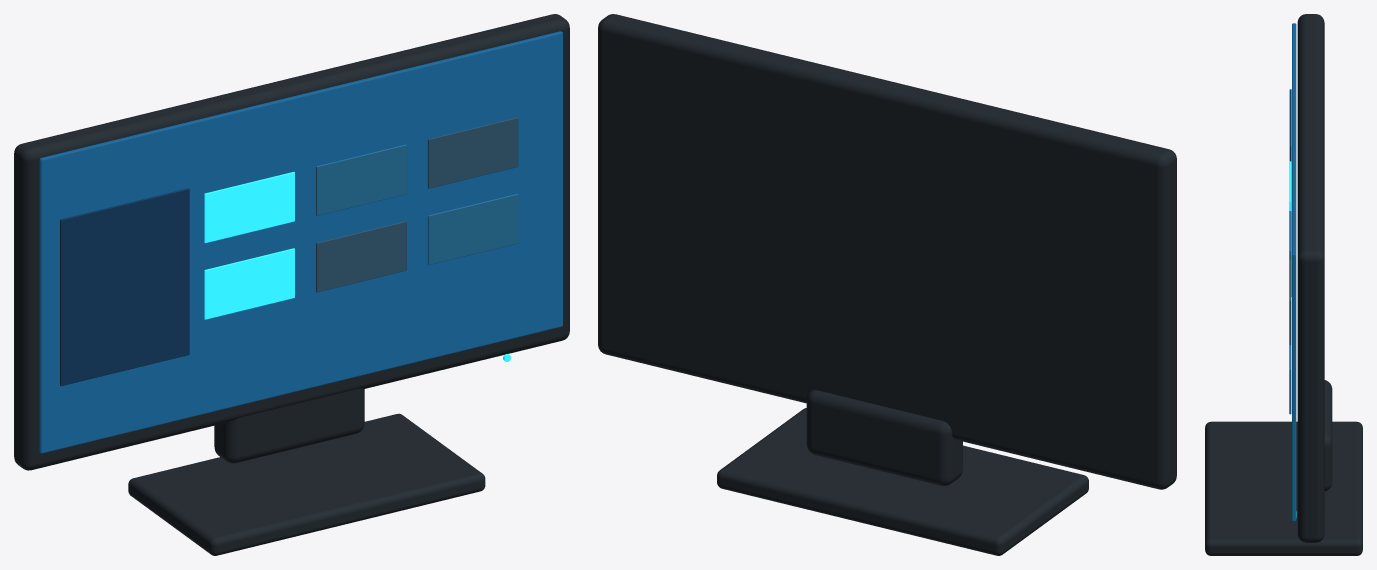
Rendered from smart-television.glb.
3 renders of one model, left to right at view 1: azimuth 30°, elevation 25°; view 2: azimuth 150°, elevation 25°; view 3: azimuth 270°, elevation 25°, orthographic. The views are drawn at different scales.
Visible parts, largest first — view 1: OLED display, Smart TV chassis, Streaming app tile (×6), TV stand base, Smart TV navigation, Central TV stand neck; view 2: Smart TV chassis, TV stand base, Central TV stand neck; view 3: TV stand base, Smart TV chassis, OLED display, Central TV stand neck, Smart TV navigation, Streaming app tile.
Boxes of the visible parts, x1,y1,x2,y2 form: OLED display: [39, 31, 562, 453]; Smart TV chassis: [14, 14, 569, 470]; Streaming app tile (×6): [204, 117, 518, 319]; TV stand base: [128, 413, 485, 555]; Smart TV navigation: [60, 188, 189, 386]; Central TV stand neck: [214, 388, 364, 463]; Smart TV chassis: [598, 14, 1176, 489]; TV stand base: [717, 408, 1088, 555]; Central TV stand neck: [806, 390, 962, 485]; TV stand base: [1205, 421, 1362, 555]; Smart TV chassis: [1297, 14, 1324, 542]; OLED display: [1292, 23, 1296, 521]; Central TV stand neck: [1324, 380, 1332, 491]; Smart TV navigation: [1289, 89, 1291, 296]; Streaming app tile: [1289, 260, 1291, 344].
Bounding box in the file's own units: 2.55 × 1.78 × 0.7.
